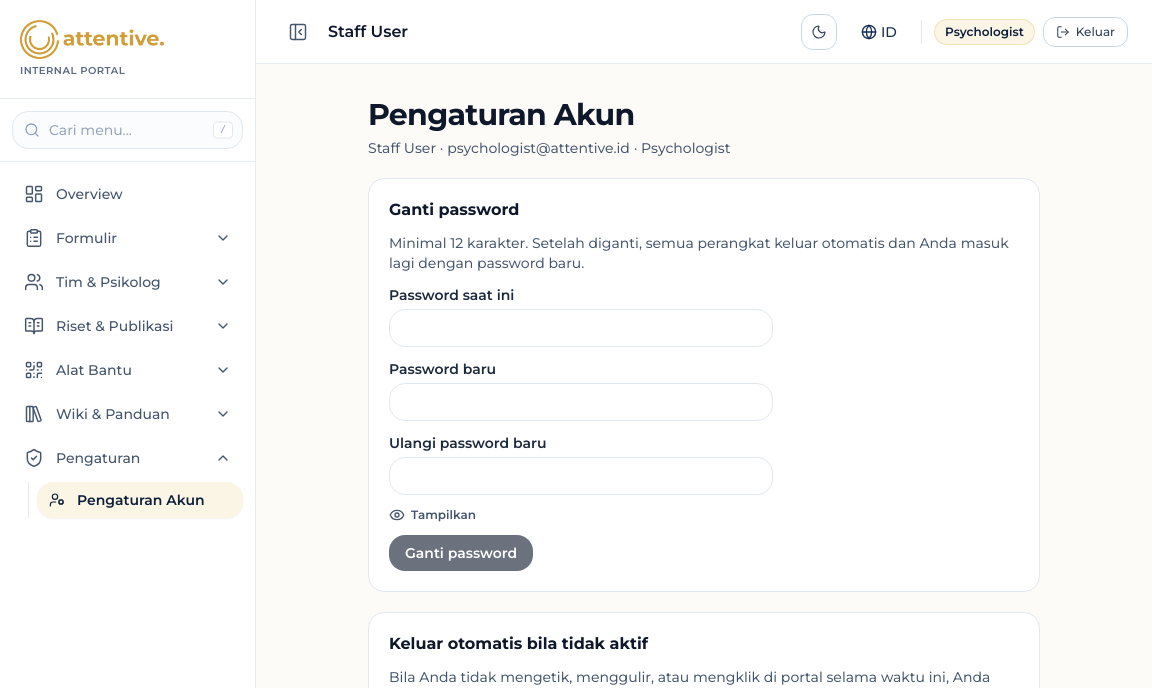
Scenario: admin dashboard update › shows a psychologist the forms they can use but not the admin pages
This screenshot has width=1152, height=688.
Click the button "Formulir". click: {"x": 128, "y": 238}
box: [12, 218, 243, 258]
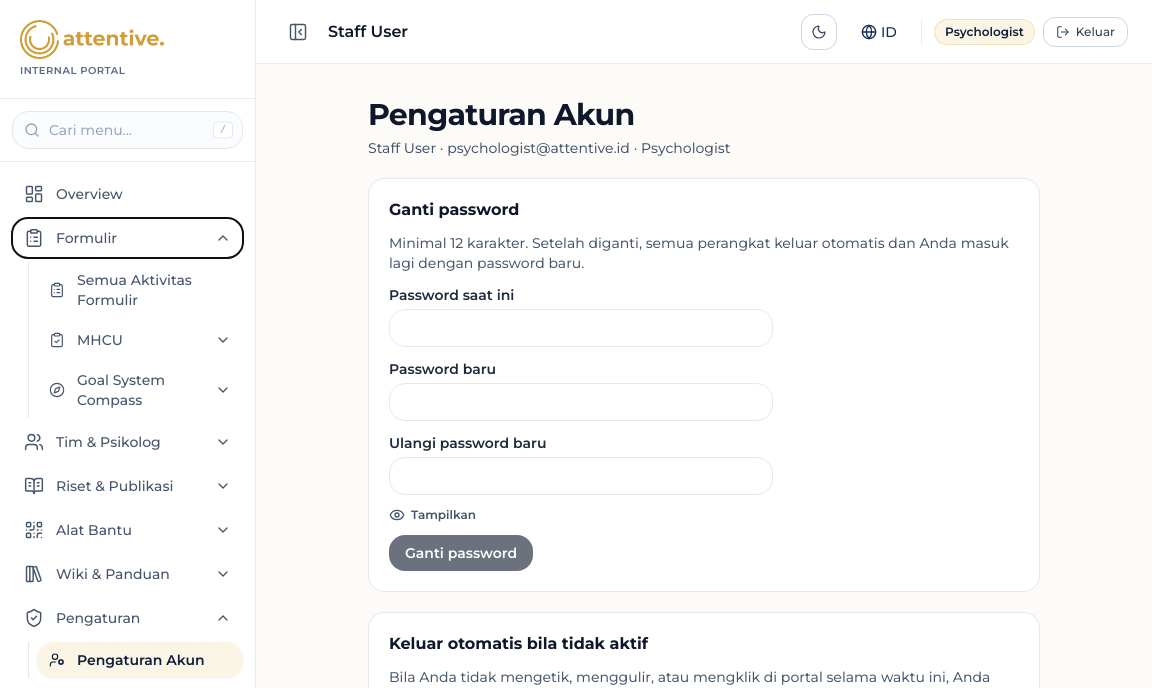
Click the button "MHCU". click: {"x": 140, "y": 340}
box: [37, 322, 243, 358]
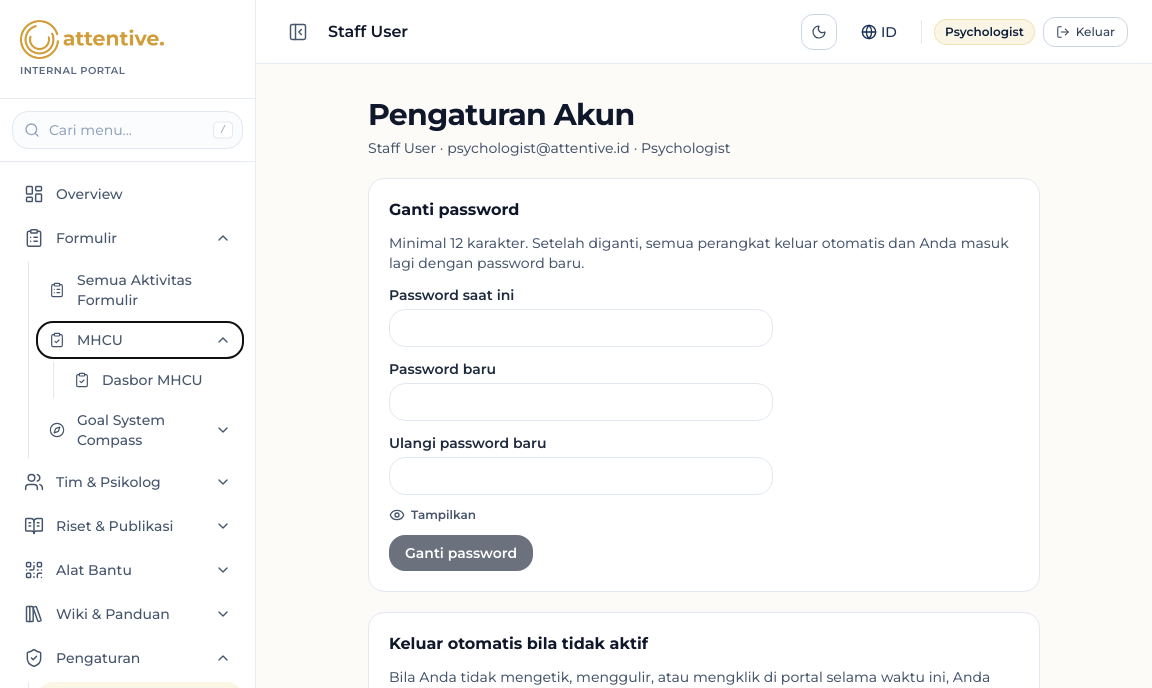
Check: the link "Dasbor MHCU" is shown, box [74, 371, 203, 389]
